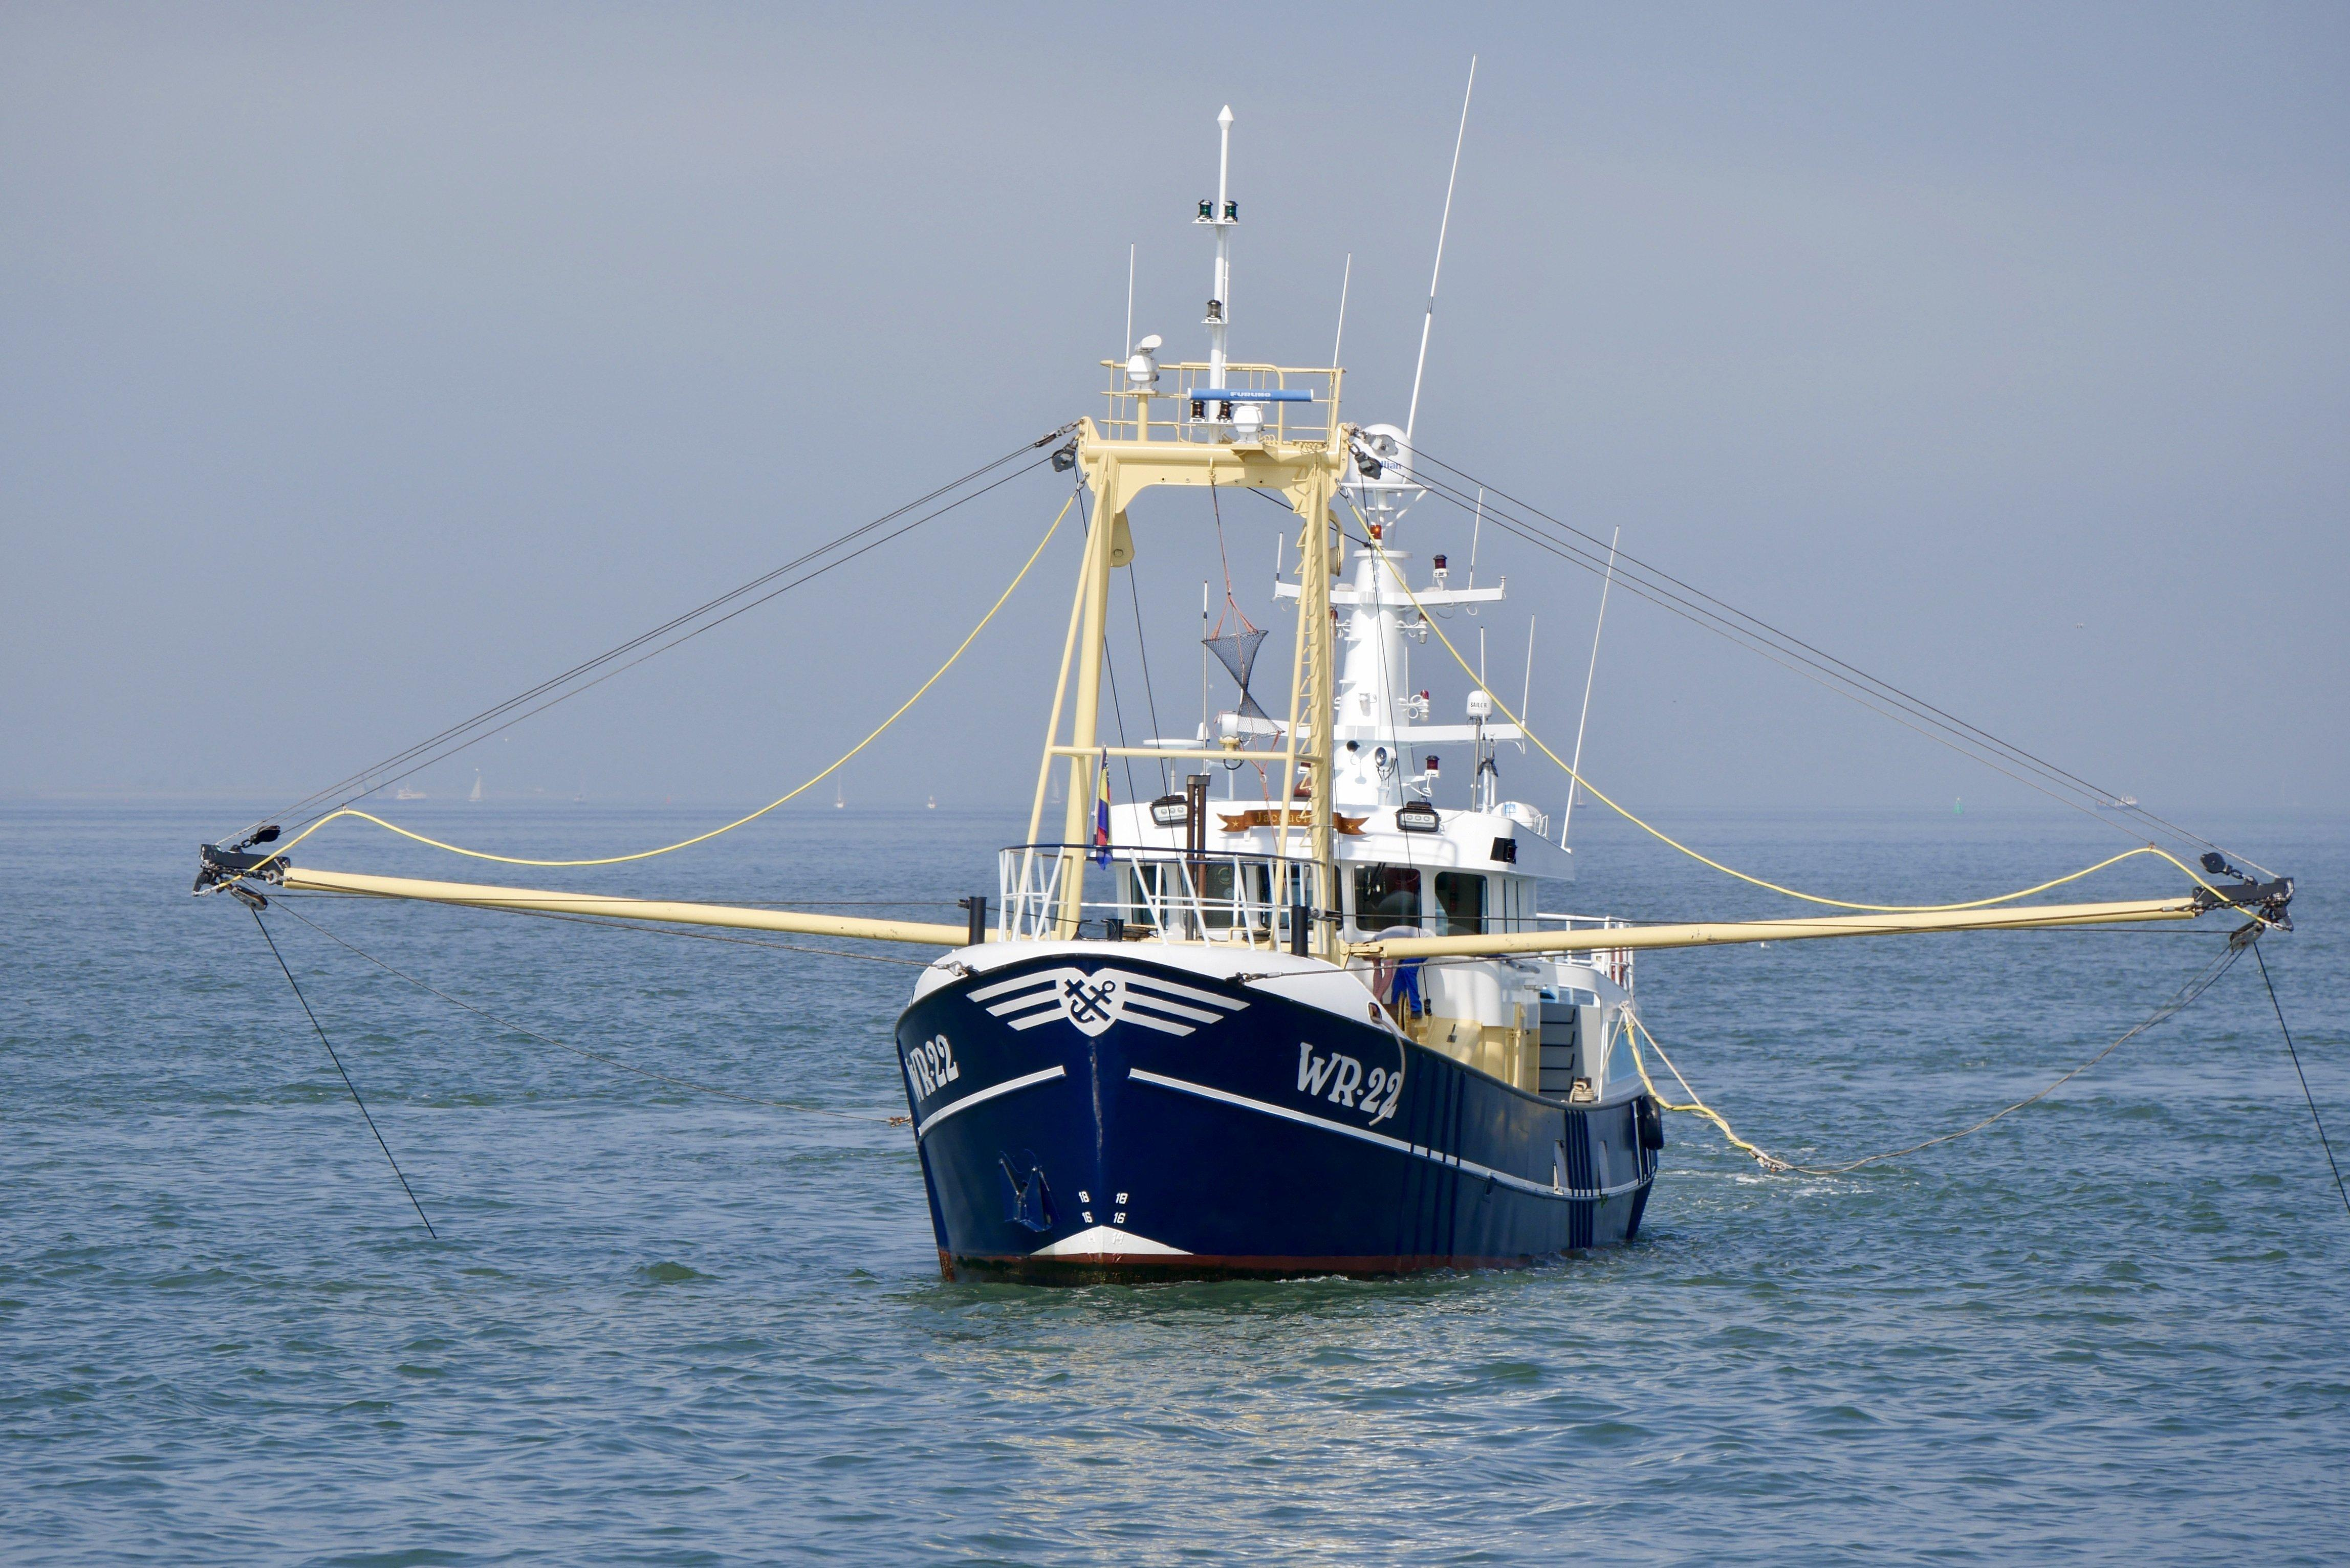otherboat: (808, 700, 1678, 1304)
